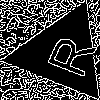R: (37, 28, 98, 81)
